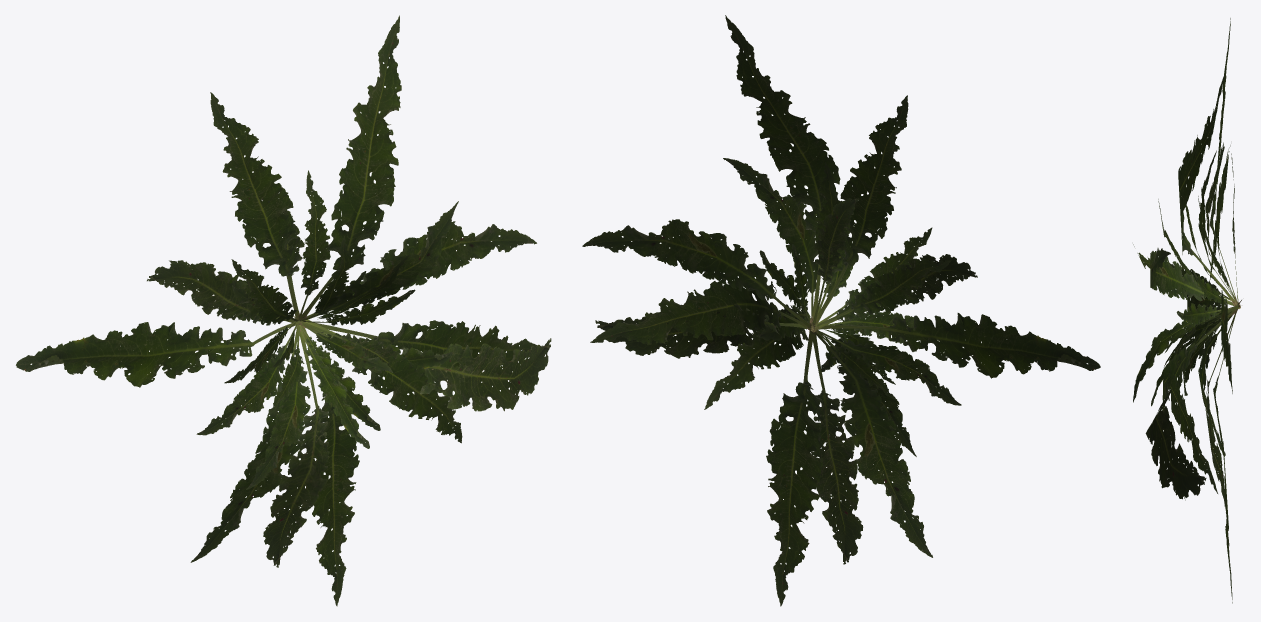
File: Weed_03_Var1_LOD1.fbx
3 views of the same model, side by side, from view 1: azimuth 30°, elevation 25°; view 2: azimuth 150°, elevation 25°; view 3: azimuth 270°, elevation 25° (orthographic). The views are drawn at different scales.
Parts seen in each view (by area): view 1: Var1_LOD1; view 2: Var1_LOD1; view 3: Var1_LOD1.
Part boxes in pixels (bbox=[...]): Var1_LOD1: bbox=[16, 15, 551, 606]; Var1_LOD1: bbox=[582, 15, 1100, 606]; Var1_LOD1: bbox=[1133, 18, 1241, 603].
Bounding box in the file's own units: 78.66 × 83.28 × 15.46.
